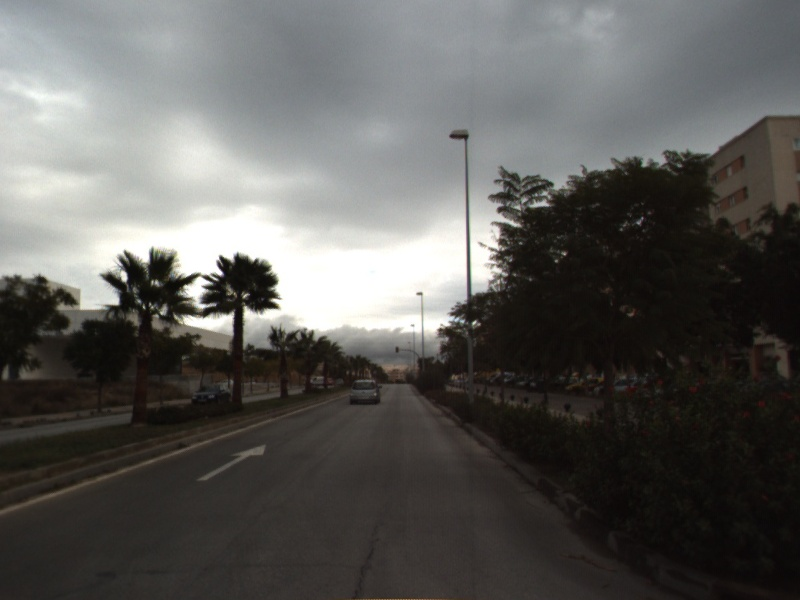STRAIGHT: (195, 442, 268, 483)
